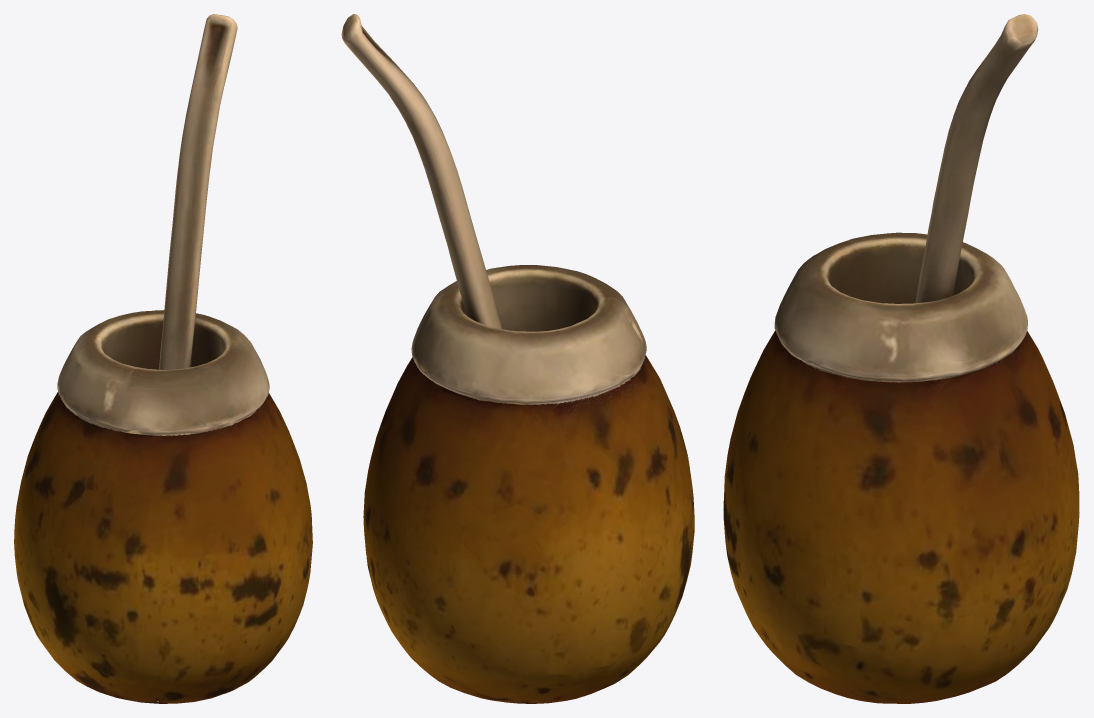
The model's file is mate.glb.
The picture shows the model from 3 angles, left to right: view 1: azimuth 30°, elevation 25°; view 2: azimuth 150°, elevation 25°; view 3: azimuth 270°, elevation 25°; orthographic projection. The views are drawn at different scales.
Parts seen in each view (by area): view 1: geometry_0; view 2: geometry_0; view 3: geometry_0.
Part boxes in pixels (x1=…): geometry_0: x1=14, y1=14, x2=312, y2=703; geometry_0: x1=341, y1=14, x2=694, y2=703; geometry_0: x1=723, y1=14, x2=1079, y2=703.
Size of the model in its own units: 0.08 by 0.18 by 0.08.
Materials: 1 (1 with a texture image).
